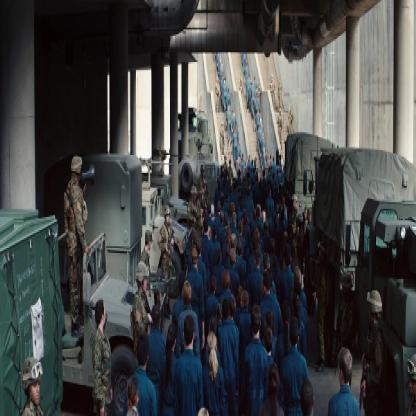Guns: (357, 334, 370, 414), (334, 304, 339, 380), (166, 227, 174, 261)
